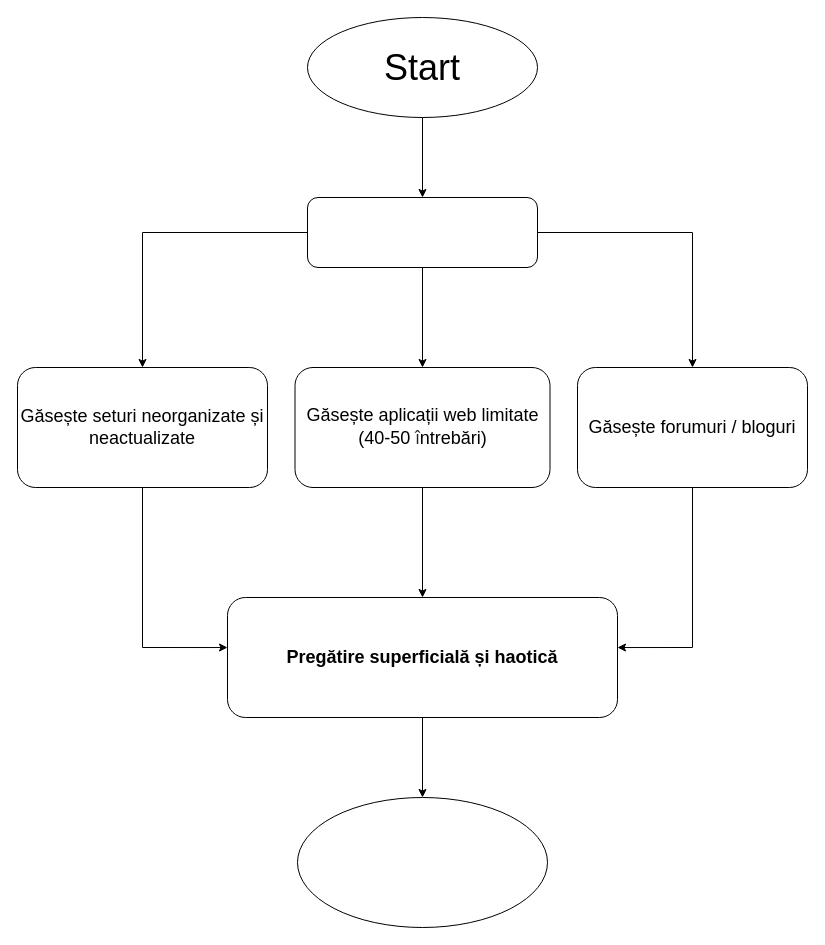
Some shapes in this 825 by 945 pixel diagram are drawn without their labels. The shapes that lost their labels are listed below. From the top down, each one's box as (x1, y1, x2, y2) in pixels, then its label:
(306, 196, 538, 268): Caut ă resurse online
(296, 796, 548, 928): End
